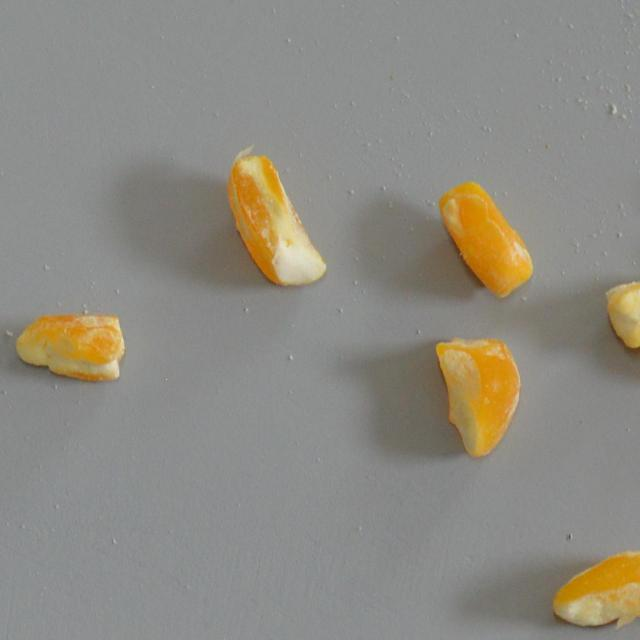dañado: (224, 138, 330, 295), (432, 172, 536, 300), (430, 326, 522, 464), (14, 304, 126, 386), (549, 548, 640, 631)
pelicula: (600, 266, 640, 350)
